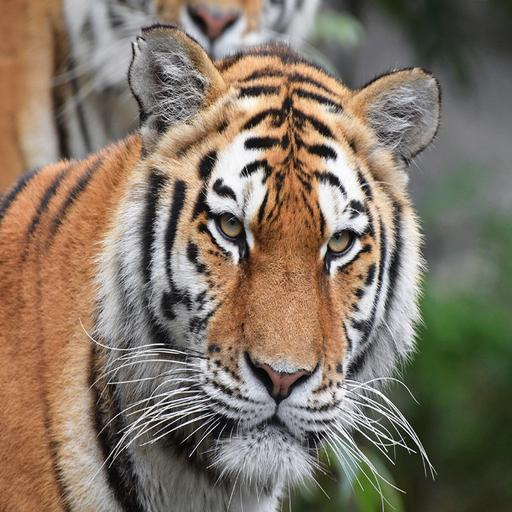Tiger: (0, 19, 443, 512), (0, 0, 348, 250)
